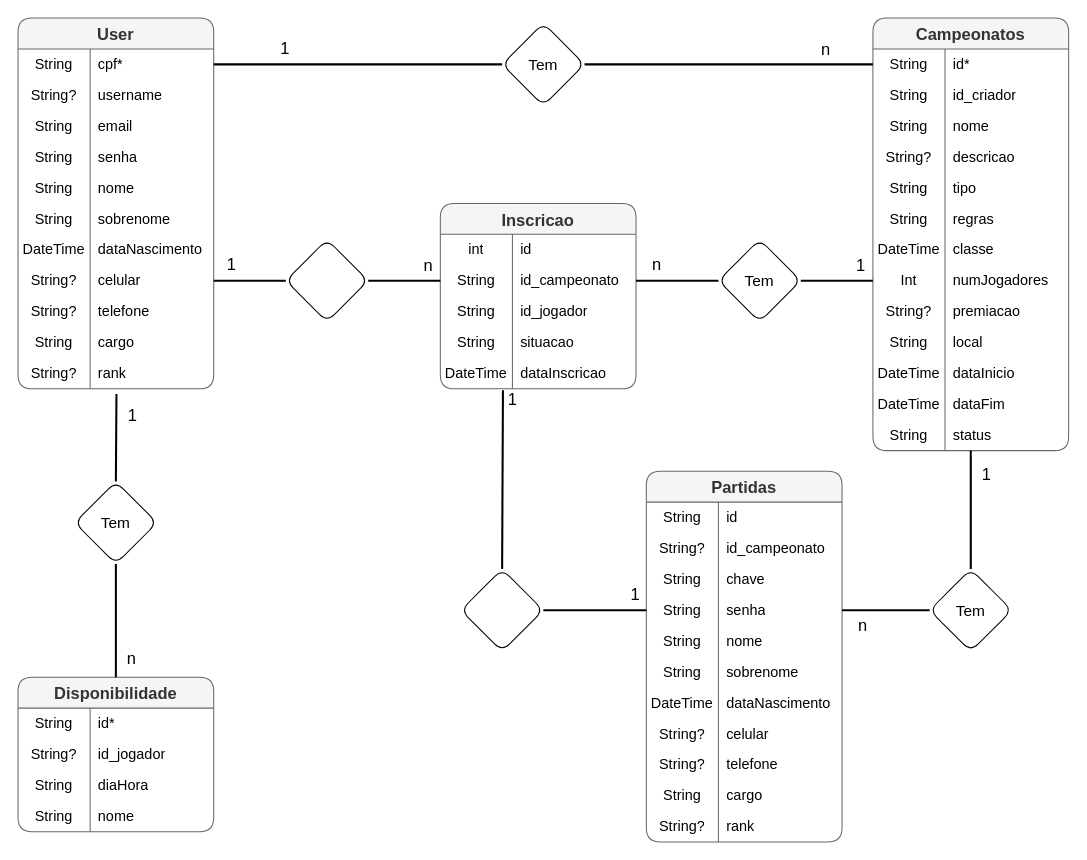
Some shapes in this 1087 by 860 pixel diagram are drawn without their labels. Each missing label, with the centre of its shape:
"Faz" goes at point (326, 280).
"Gera" goes at point (501, 609).
